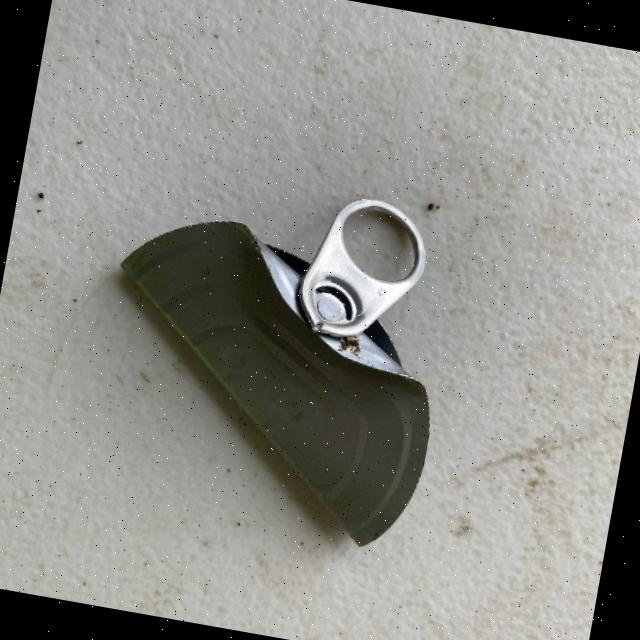metal: (78, 157, 469, 556)
